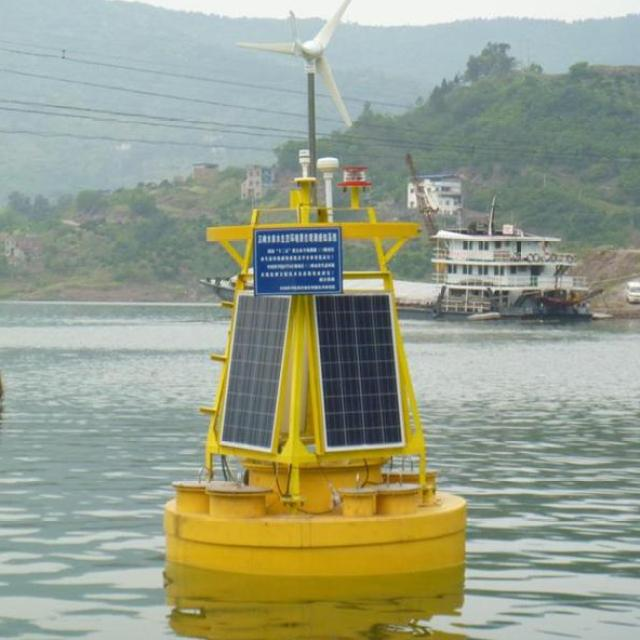buoy: (158, 0, 471, 574)
